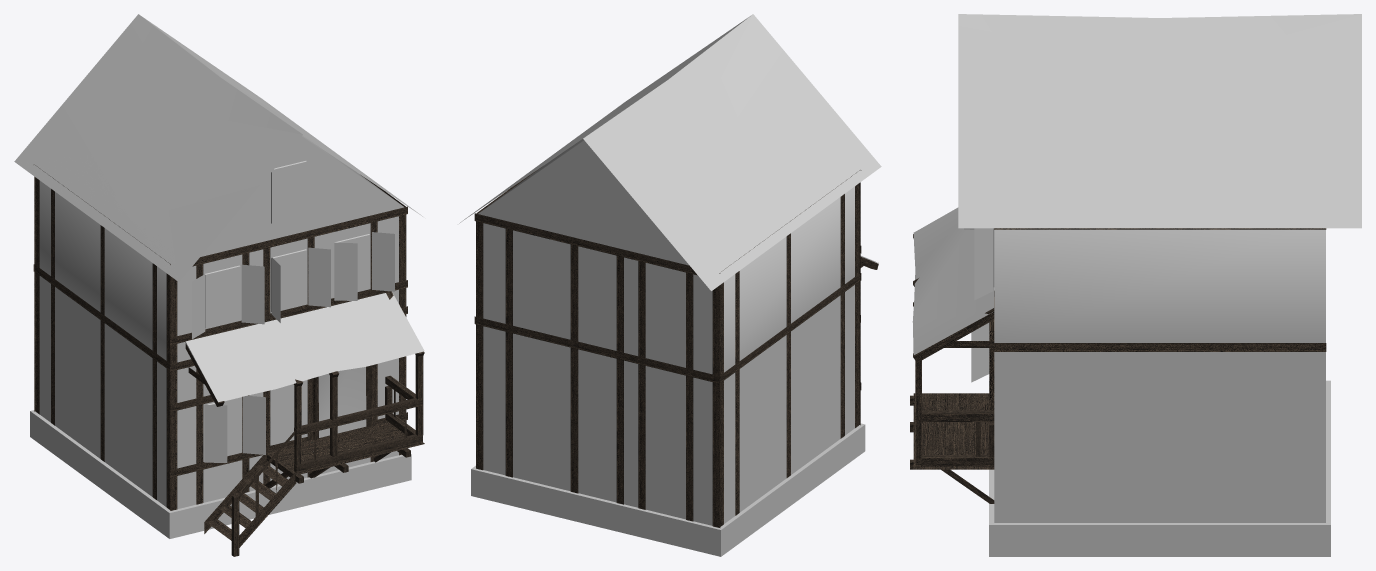
File: house2_LOD1.fbx
3 renders of one model, left to right at view 1: azimuth 30°, elevation 25°; view 2: azimuth 150°, elevation 25°; view 3: azimuth 270°, elevation 25°, orthographic. The views are drawn at different scales.
Visible parts, largest first — view 1: Mesh Object; view 2: Mesh Object; view 3: Mesh Object.
Part boxes in pixels (x1,y1,x2,y2): Mesh Object: (14, 14, 424, 556); Mesh Object: (459, 14, 881, 556); Mesh Object: (910, 14, 1361, 556).
Bounding box in the file's own units: 8.2 × 12.29 × 10.57.
